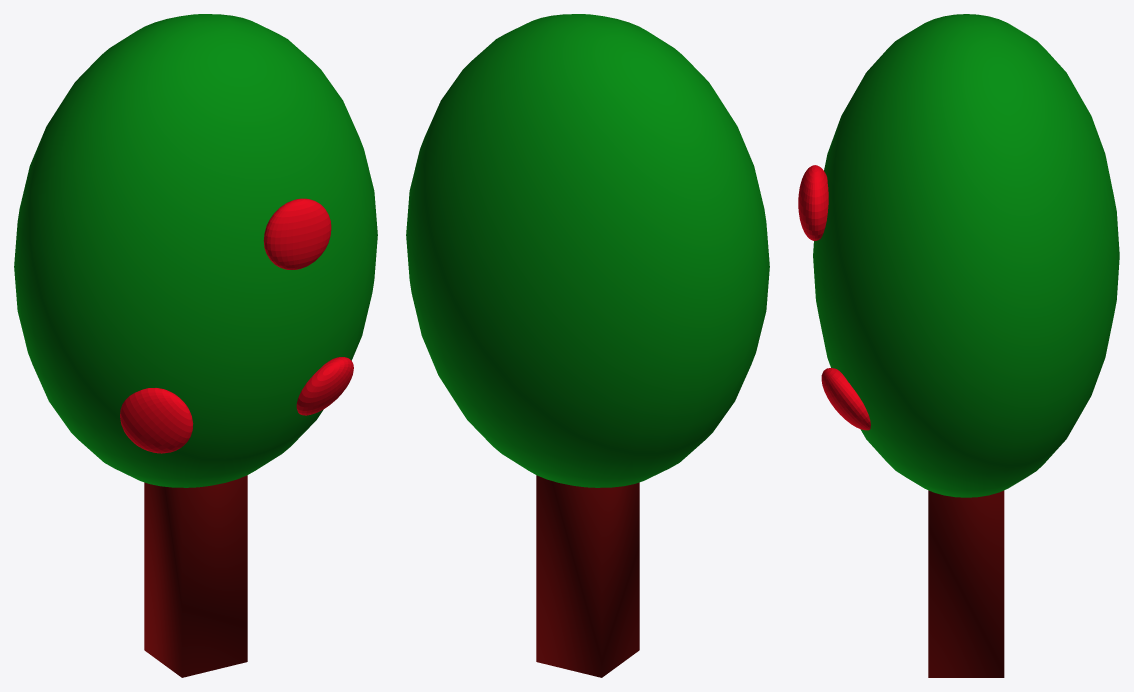
Rendered from tree_new.glb.
3 views of the same model, side by side, from view 1: azimuth 30°, elevation 25°; view 2: azimuth 150°, elevation 25°; view 3: azimuth 270°, elevation 25° (orthographic).
Visible parts, largest first — view 1: Сфера, Cube, Сфера.003, Сфера.001, Сфера.002; view 2: Сфера, Cube; view 3: Сфера, Cube, Сфера.003, Сфера.002.
Boxes of the visible parts, x1,y1,x2,y2 form: Сфера: (14, 14, 377, 487); Cube: (144, 475, 247, 677); Сфера.003: (263, 198, 331, 269); Сфера.001: (120, 388, 193, 453); Сфера.002: (296, 357, 353, 415); Сфера: (406, 14, 769, 487); Cube: (536, 475, 639, 677); Сфера: (813, 14, 1119, 497); Cube: (928, 490, 1004, 677); Сфера.003: (798, 165, 828, 240); Сфера.002: (821, 368, 870, 430).
Size of the model in its own units: 10.06 by 18.41 by 8.46.
